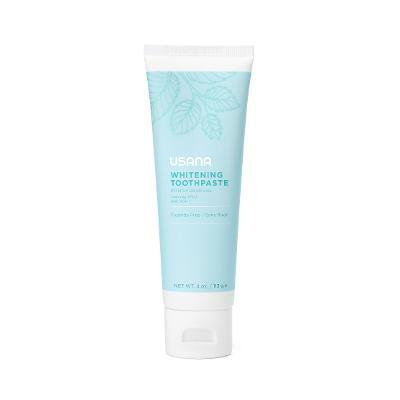toothpaste: (137, 35, 259, 364)
